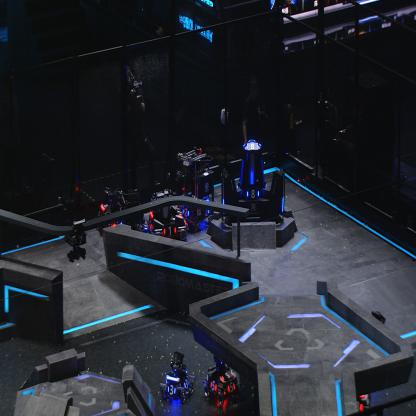car: (176, 145, 216, 229), (147, 179, 188, 240), (203, 344, 241, 407), (158, 349, 196, 403), (119, 189, 149, 238), (96, 186, 124, 233)
